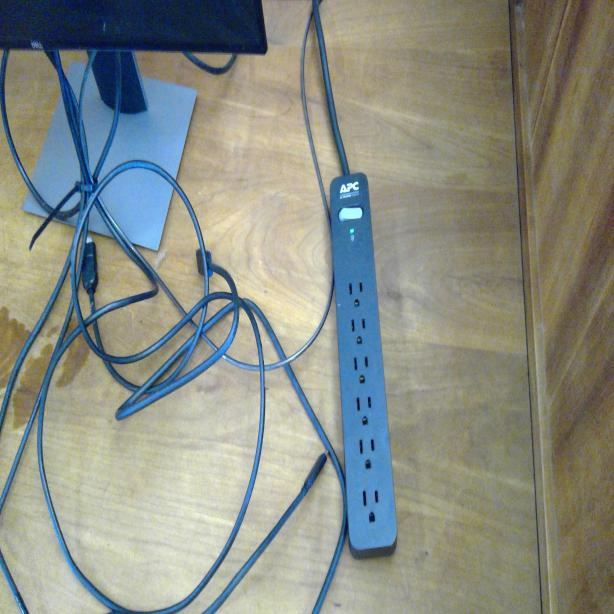typeb: (359, 483, 383, 526), (356, 433, 380, 474), (353, 390, 376, 430), (350, 351, 374, 387), (346, 270, 367, 310), (348, 314, 371, 347)
